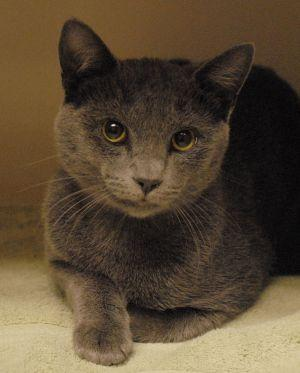rblue: (30, 1, 264, 249)
